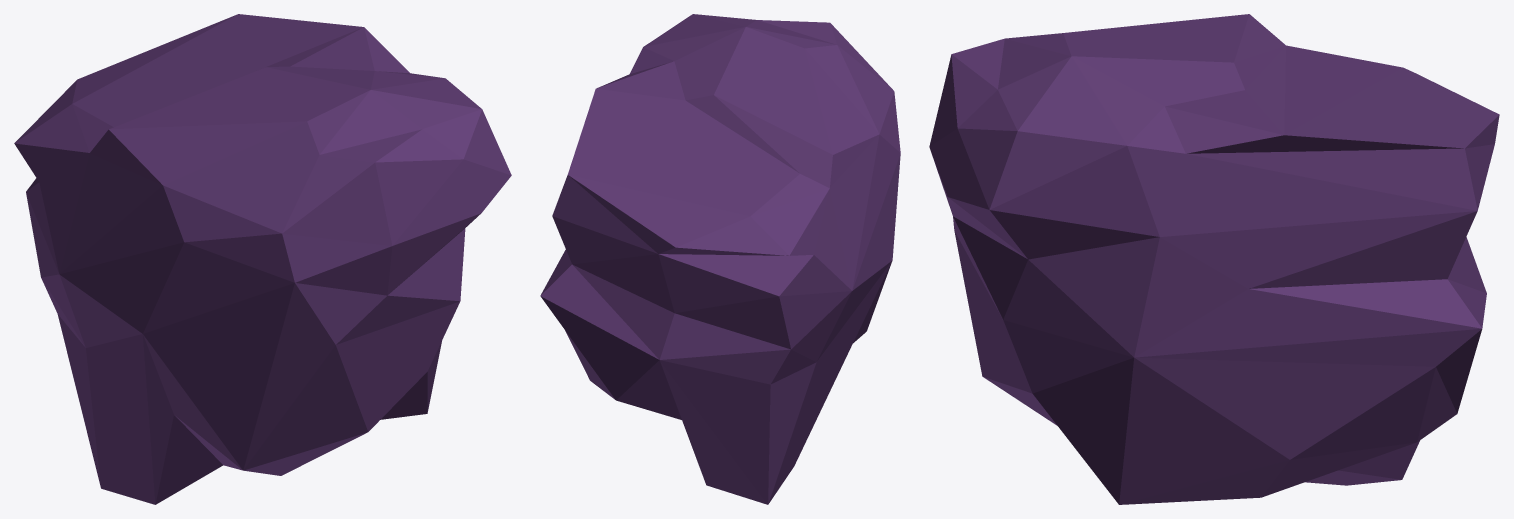
The model's file is Rock_7.fbx.
The picture shows the model from 3 angles, left to right: view 1: azimuth 30°, elevation 25°; view 2: azimuth 150°, elevation 25°; view 3: azimuth 270°, elevation 25°; orthographic projection. The views are drawn at different scales.
Visible parts, largest first — view 1: rock_model.025; view 2: rock_model.025; view 3: rock_model.025.
Boxes of the visible parts, x1,y1,x2,y2 form: rock_model.025: (14, 14, 511, 504); rock_model.025: (540, 14, 900, 504); rock_model.025: (929, 14, 1499, 504).
Bounding box in the file's own units: 209 × 268 × 270.
